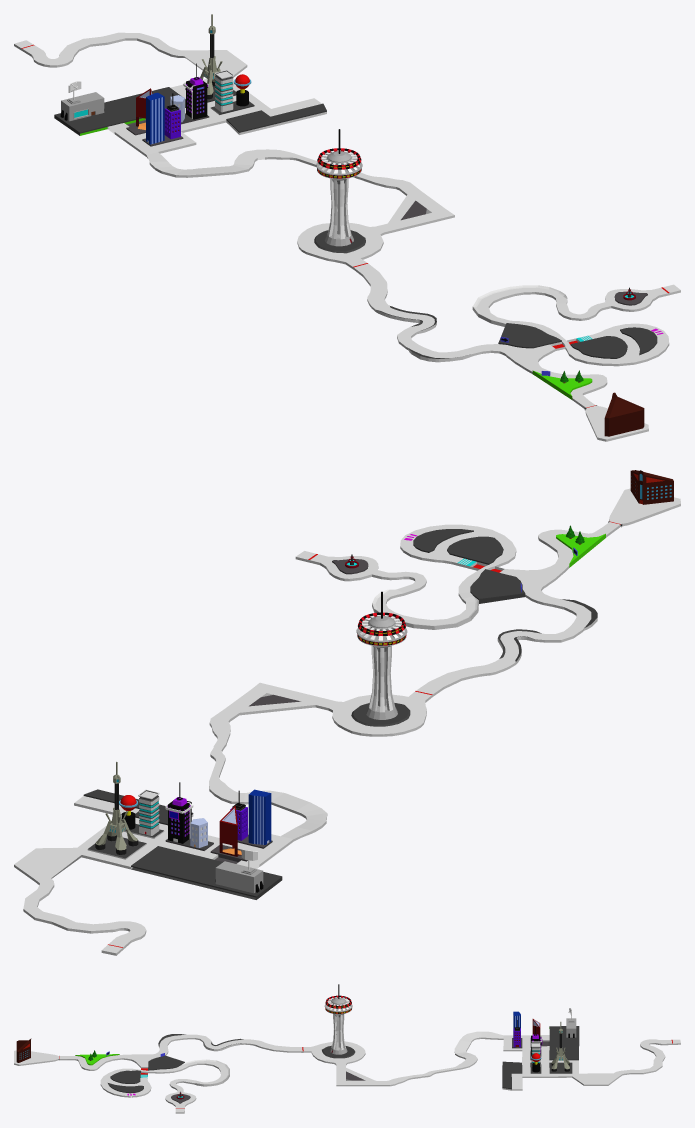
Rendered from Arcadia(TEST).fbx.
3 views of the same model, one above another, from view 1: azimuth 30°, elevation 25°; view 2: azimuth 150°, elevation 25°; view 3: azimuth 270°, elevation 25° (orthographic). The views are drawn at different scales.
Parts seen in each view (by area): view 1: Course.001; view 2: Course.001; view 3: Course.001.
Boxes of the visible parts, box(x1,y1,x2,y2) form: Course.001: box(14, 14, 680, 441); Course.001: box(14, 470, 680, 955); Course.001: box(14, 984, 680, 1113).
Size of what is drawn, in the model's own units: 26581 by 10046 by 87404.
